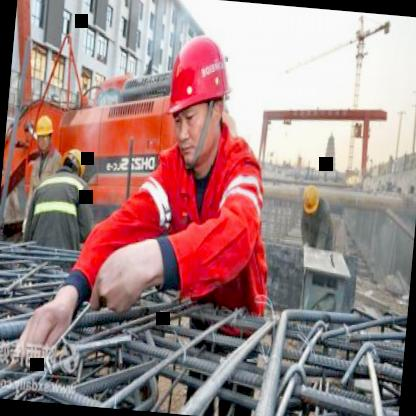helmet: (156, 20, 242, 178), (60, 142, 91, 180), (33, 113, 56, 152), (301, 182, 322, 215)
